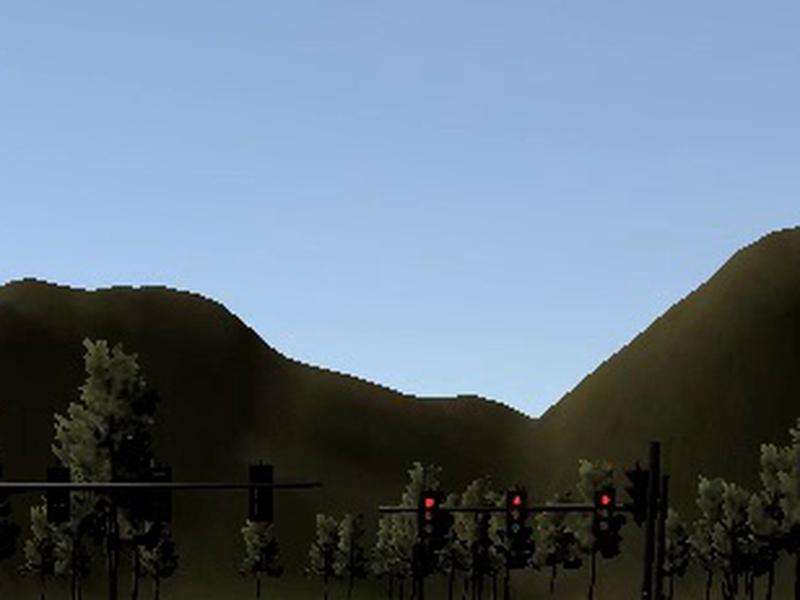Red: (418, 489, 441, 538), (508, 491, 529, 539), (594, 490, 614, 537)
